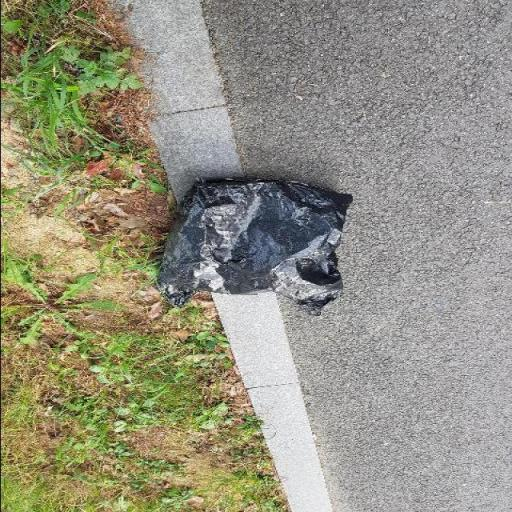plastic-bag: (150, 175, 356, 319)
